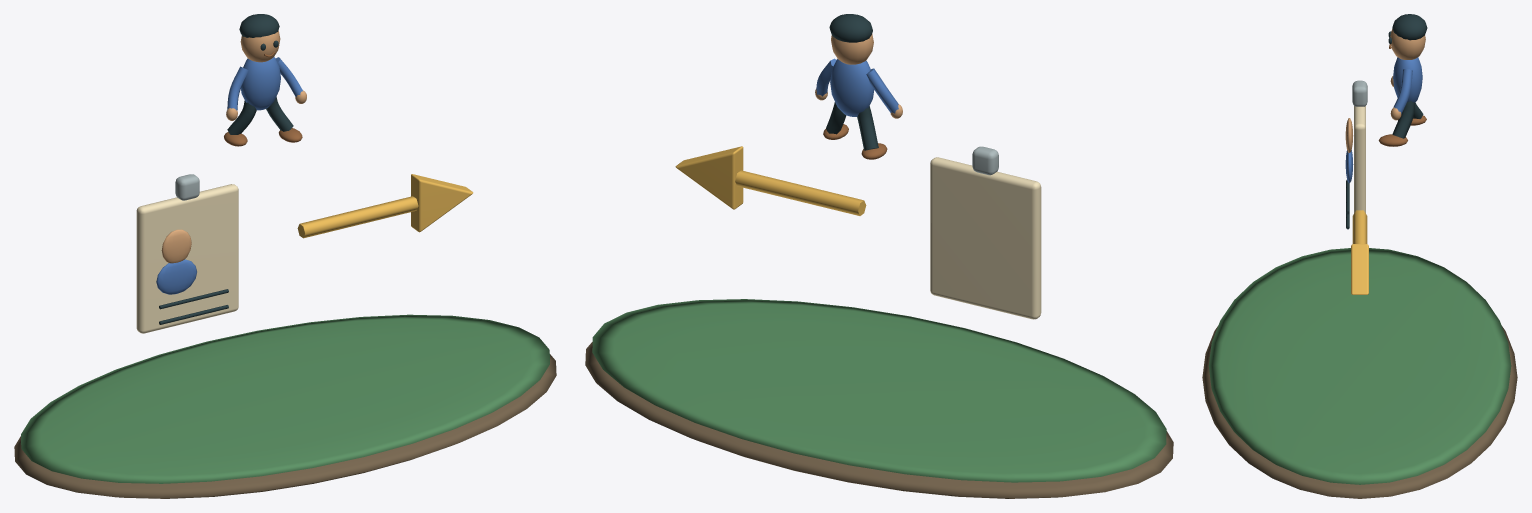
The model's file is complete-third-host-starts-motion.glb.
The picture shows the model from 3 angles, left to right: view 1: azimuth 30°, elevation 25°; view 2: azimuth 150°, elevation 25°; view 3: azimuth 270°, elevation 25°; orthographic projection. The views are drawn at different scales.
Parts seen in each view (by area): view 1: complete-third-host-starts-motion_surface_01, complete-third-host-starts-motion_surface_02, complete-third-host-starts-motion_surface_00, complete-third-host-starts-motion_surface_07, complete-third-host-starts-motion_surface_05, complete-third-host-starts-motion_surface_06, complete-third-host-starts-motion_surface_04; view 2: complete-third-host-starts-motion_surface_01, complete-third-host-starts-motion_surface_02, complete-third-host-starts-motion_surface_00, complete-third-host-starts-motion_surface_07, complete-third-host-starts-motion_surface_05, complete-third-host-starts-motion_surface_06, complete-third-host-starts-motion_surface_04, complete-third-host-starts-motion_surface_03; view 3: complete-third-host-starts-motion_surface_01, complete-third-host-starts-motion_surface_00, complete-third-host-starts-motion_surface_06, complete-third-host-starts-motion_surface_05, complete-third-host-starts-motion_surface_07, complete-third-host-starts-motion_surface_02, complete-third-host-starts-motion_surface_04, complete-third-host-starts-motion_surface_08, complete-third-host-starts-motion_surface_03.
Part boxes in pixels (x1,y1,x2,y2): complete-third-host-starts-motion_surface_01: (21, 314, 549, 483); complete-third-host-starts-motion_surface_02: (136, 184, 238, 333); complete-third-host-starts-motion_surface_00: (14, 354, 556, 498); complete-third-host-starts-motion_surface_07: (297, 174, 473, 238); complete-third-host-starts-motion_surface_05: (156, 57, 302, 294); complete-third-host-starts-motion_surface_06: (159, 14, 293, 324); complete-third-host-starts-motion_surface_04: (161, 30, 306, 263); complete-third-host-starts-motion_surface_01: (592, 299, 1166, 482); complete-third-host-starts-motion_surface_02: (930, 157, 1041, 319); complete-third-host-starts-motion_surface_00: (585, 342, 1173, 498); complete-third-host-starts-motion_surface_07: (675, 146, 866, 215); complete-third-host-starts-motion_surface_05: (816, 58, 898, 116); complete-third-host-starts-motion_surface_06: (826, 14, 878, 150); complete-third-host-starts-motion_surface_04: (815, 34, 902, 118); complete-third-host-starts-motion_surface_03: (972, 146, 998, 175); complete-third-host-starts-motion_surface_01: (1208, 248, 1511, 484); complete-third-host-starts-motion_surface_00: (1202, 326, 1517, 498); complete-third-host-starts-motion_surface_06: (1346, 14, 1427, 229); complete-third-host-starts-motion_surface_05: (1345, 57, 1422, 183); complete-third-host-starts-motion_surface_07: (1351, 210, 1368, 294); complete-third-host-starts-motion_surface_02: (1354, 106, 1365, 213); complete-third-host-starts-motion_surface_04: (1345, 29, 1425, 152); complete-third-host-starts-motion_surface_08: (1378, 44, 1426, 146); complete-third-host-starts-motion_surface_03: (1352, 80, 1367, 106).
Size of the model in its own units: 4.56 by 3.29 by 2.5.
